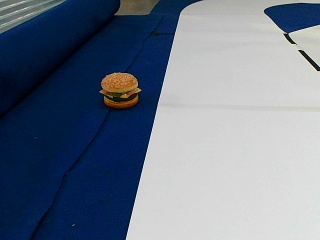burger: (99, 70, 140, 108)
